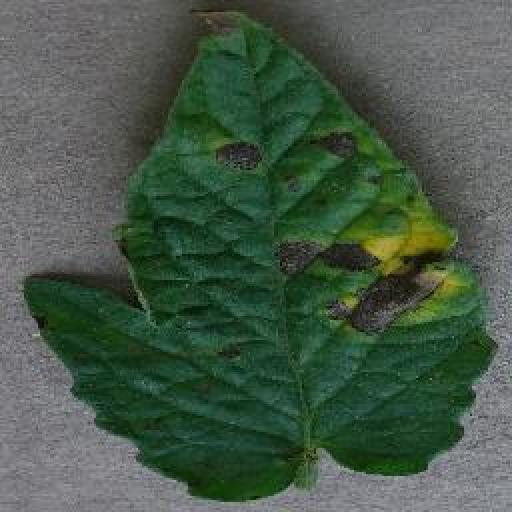disease_tomato: (27, 7, 500, 501)
